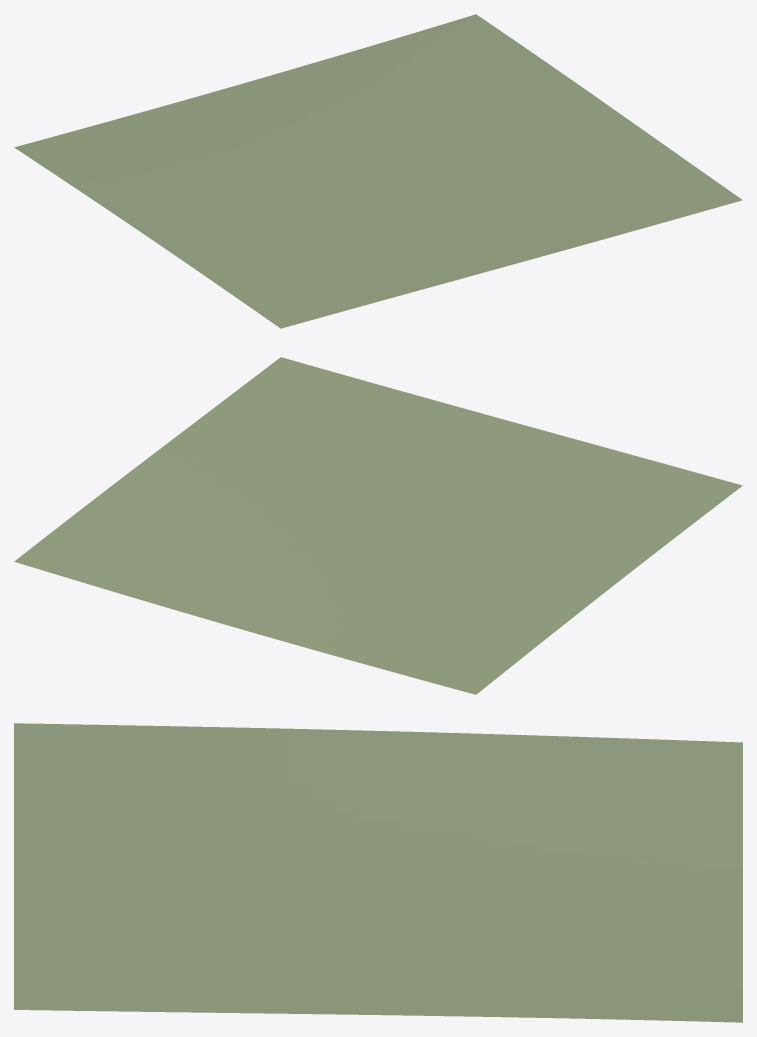
File: expanse-10-25.glb
The picture shows the model from 3 angles, top to bottom: view 1: azimuth 30°, elevation 25°; view 2: azimuth 150°, elevation 25°; view 3: azimuth 270°, elevation 25°; orthographic projection. The views are drawn at different scales.
Parts seen in each view (by area): view 1: expanse-10-25; view 2: expanse-10-25; view 3: expanse-10-25.
Boxes of the visible parts, box(x1,y1,x2,y2) form: expanse-10-25: box(14, 14, 742, 328); expanse-10-25: box(14, 357, 742, 694); expanse-10-25: box(14, 723, 742, 1022).
Bounding box in the file's own units: 256 × 15.75 × 256.
